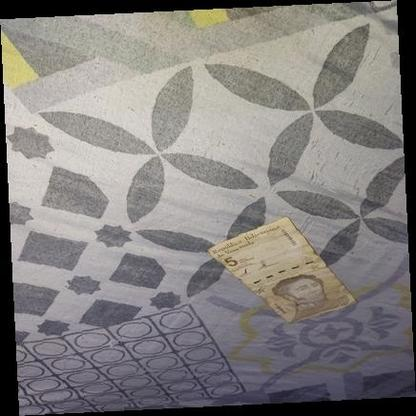five-front-vef: (207, 216, 358, 324)
